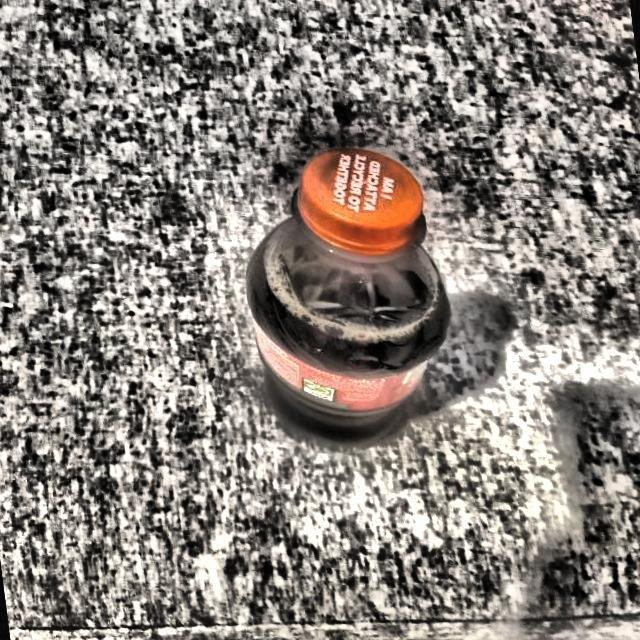coke-bottle: (249, 157, 446, 451)
